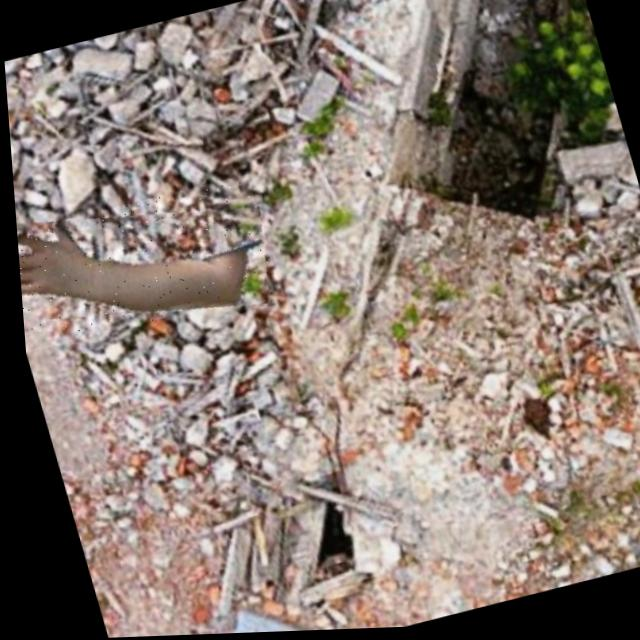Person in Rubble: (11, 174, 279, 352)
